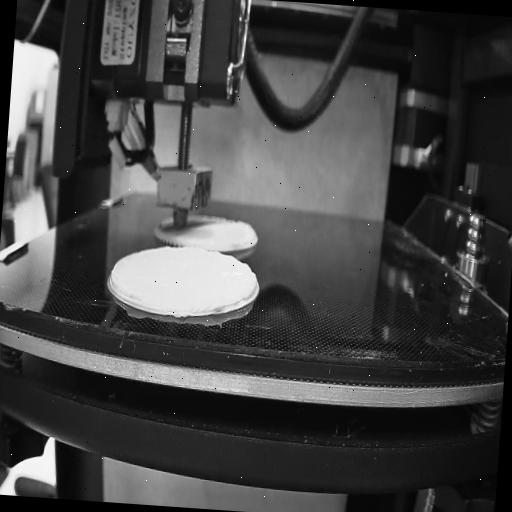over_extrusion: (108, 272, 140, 300), (244, 272, 260, 302)
